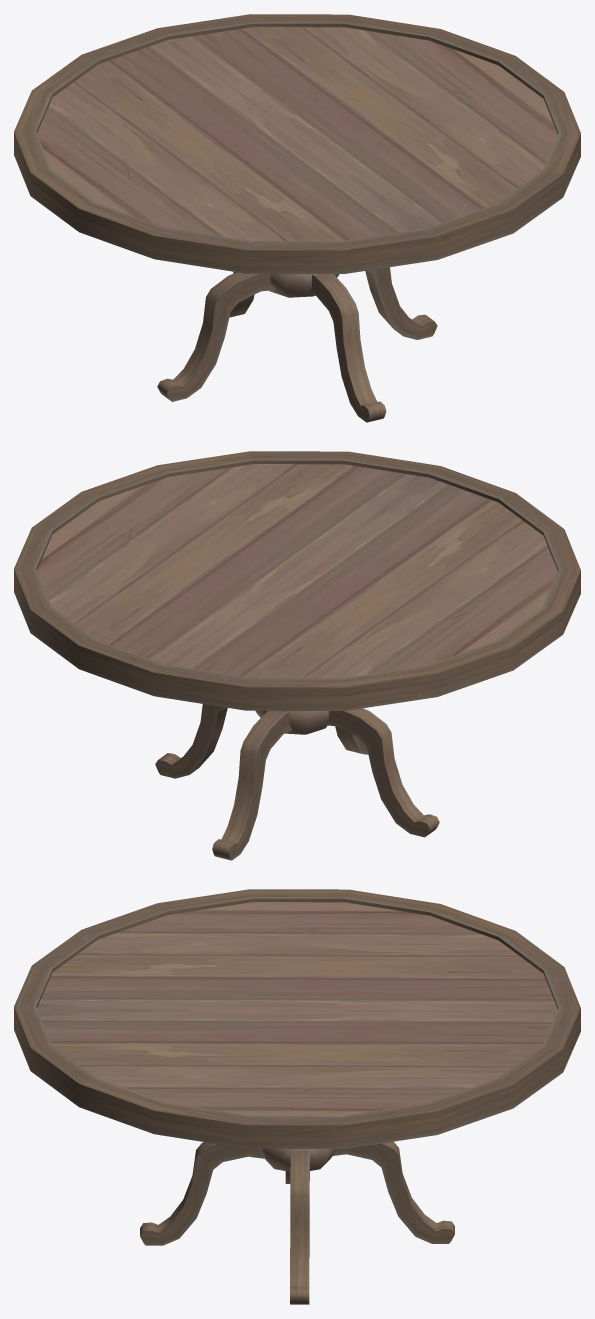
The model's file is Homeworld_Interior_Md_Table_Table_20_Vo.fbx.
The picture shows the model from 3 angles, top to bottom: view 1: azimuth 30°, elevation 25°; view 2: azimuth 150°, elevation 25°; view 3: azimuth 270°, elevation 25°; orthographic projection.
Visible parts, largest first — view 1: Area_MdProps_Roundtable01_Lod0; view 2: Area_MdProps_Roundtable01_Lod0; view 3: Area_MdProps_Roundtable01_Lod0.
Part boxes in pixels (left/top/right/bottom): Area_MdProps_Roundtable01_Lod0: left=14, top=14, right=580, bottom=422; Area_MdProps_Roundtable01_Lod0: left=14, top=451, right=580, bottom=860; Area_MdProps_Roundtable01_Lod0: left=14, top=889, right=580, bottom=1304.
Size of the model in its own units: 1.66 by 0.7628 by 1.68.
